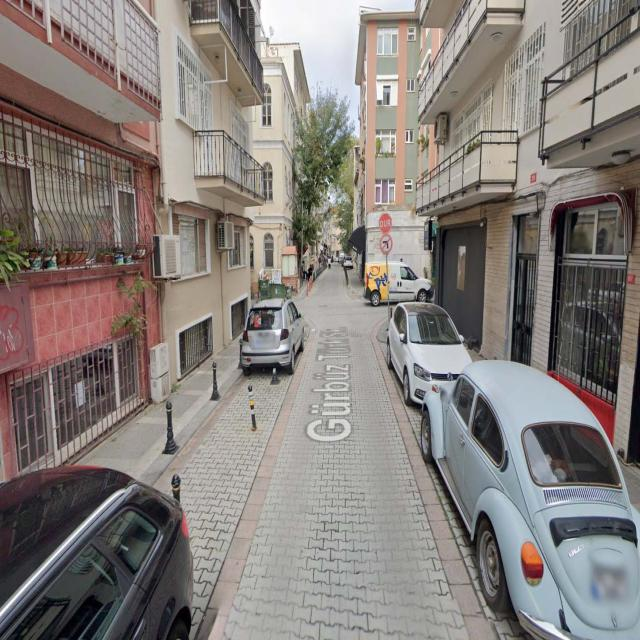dur: (379, 213, 392, 233)
soladonulmez: (380, 234, 392, 254)
